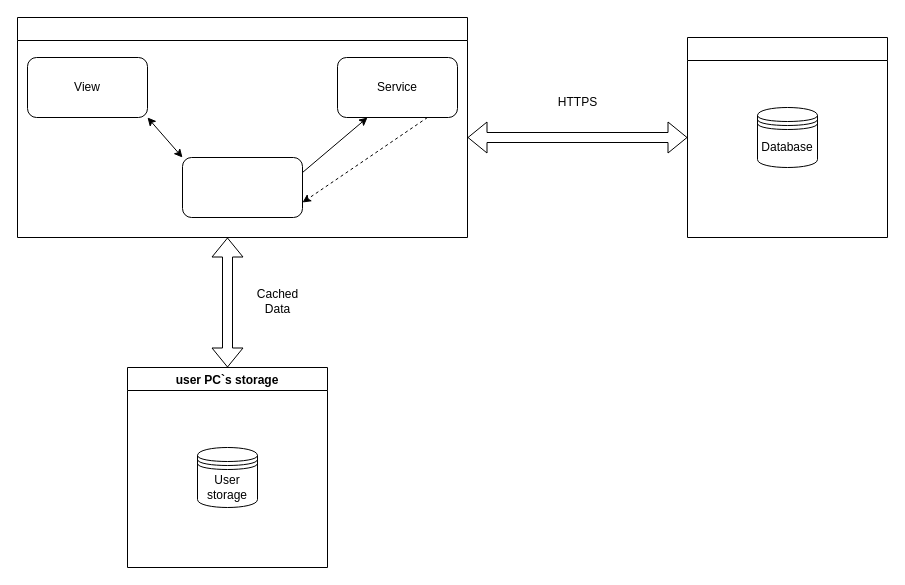
This 905x585 diagram has some shape labels left out. The box of each missing label's shape, as (x1, y1, x2, y2) in pixels:
Heroku: (686, 36, 888, 238)
User PC: (16, 16, 468, 238)
ViewModel: (182, 156, 302, 218)
